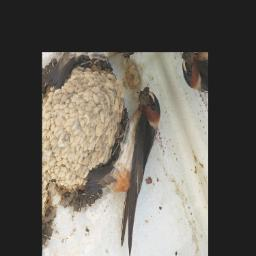Swallow: (84, 81, 193, 256)
